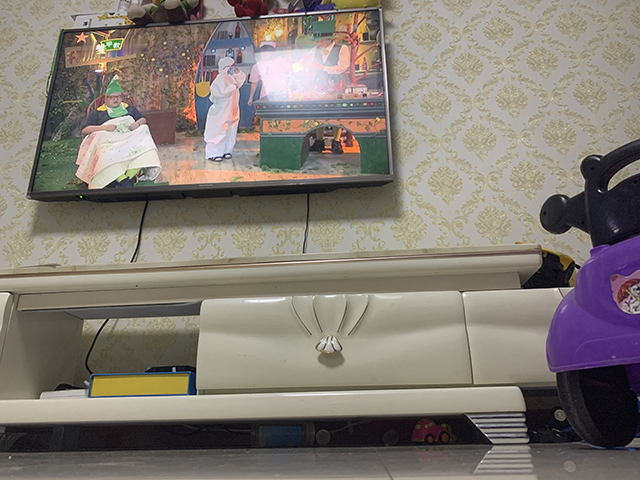cabinet: (1, 241, 577, 446)
